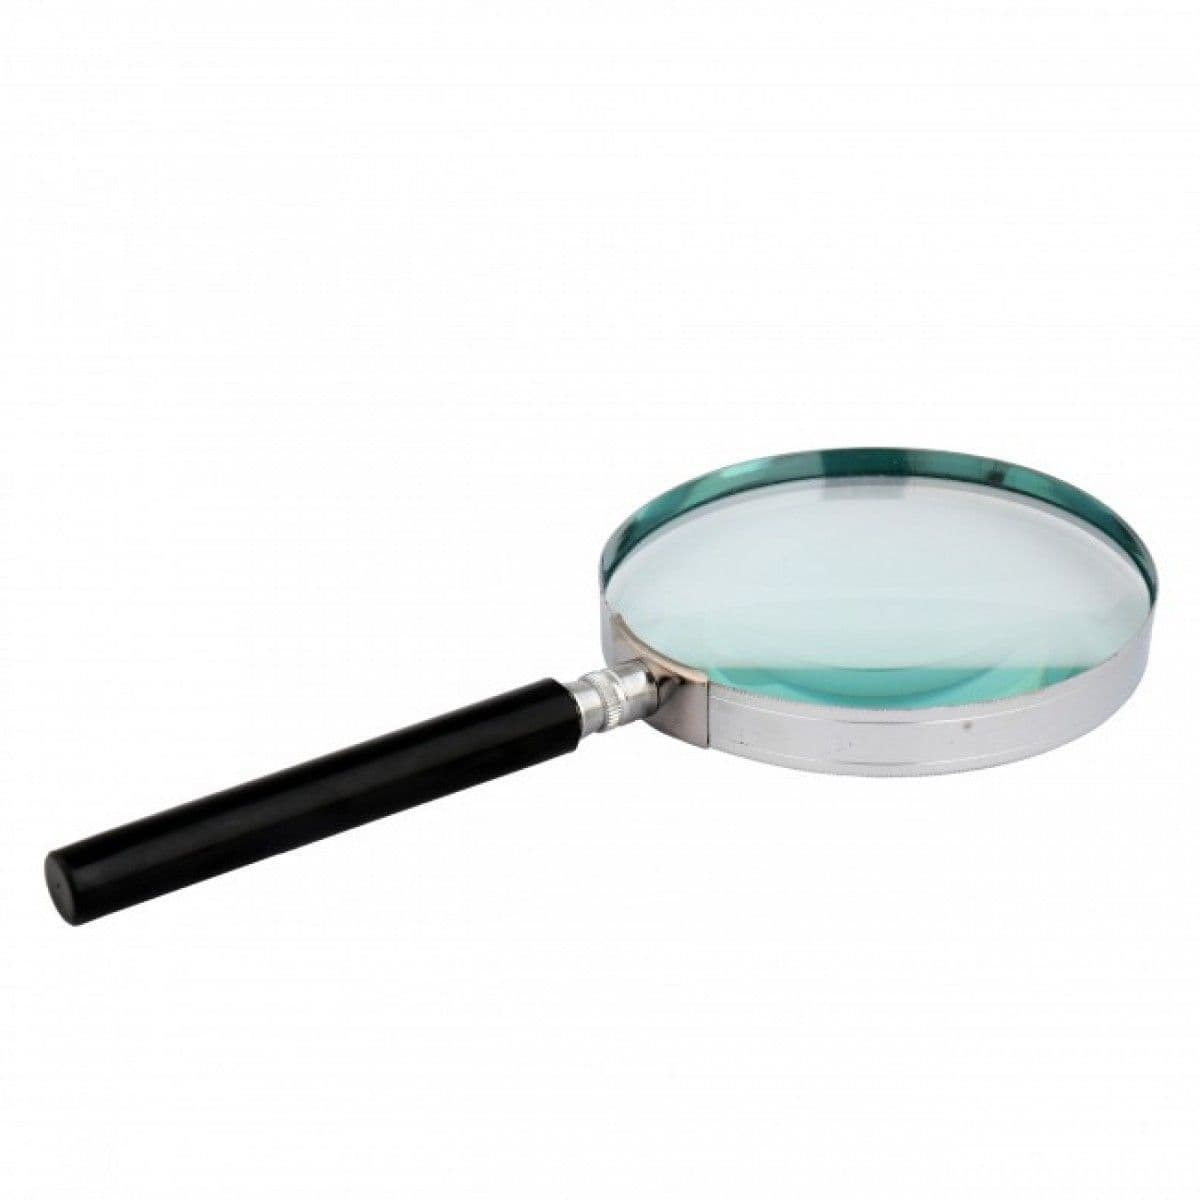magnifying-glass: (22, 326, 1165, 1014)
